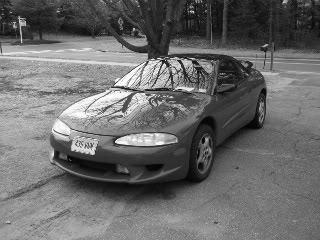car: (49, 50, 270, 199)
